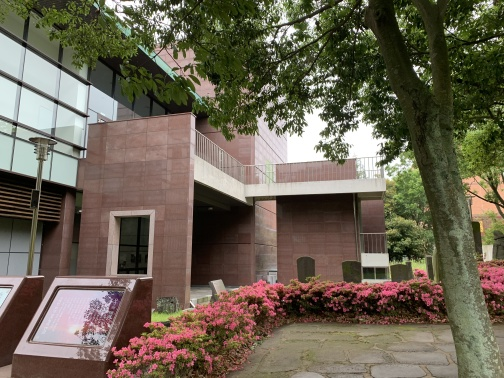Museum: (12, 49, 398, 325)
